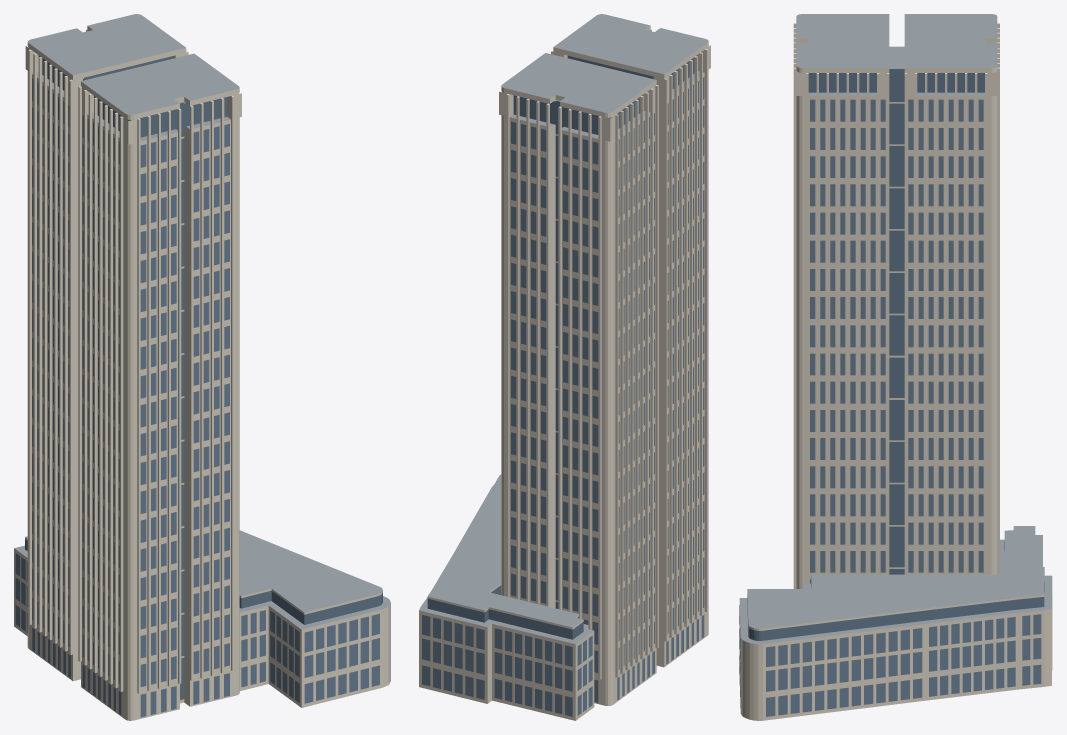
The model's file is frankfurt-opernturm.glb.
3 renders of one model, left to right at view 1: azimuth 30°, elevation 25°; view 2: azimuth 150°, elevation 25°; view 3: azimuth 270°, elevation 25°, orthographic. The views are drawn at different scales.
Visible parts, largest first — view 1: OpernTurm; view 2: OpernTurm; view 3: OpernTurm.
Boxes of the visible parts, <box> form: OpernTurm: <box>14,14,390,720</box>; OpernTurm: <box>419,14,710,720</box>; OpernTurm: <box>739,14,1052,720</box>.
Size of the model in its own units: 71.5 by 170 by 81.48.
